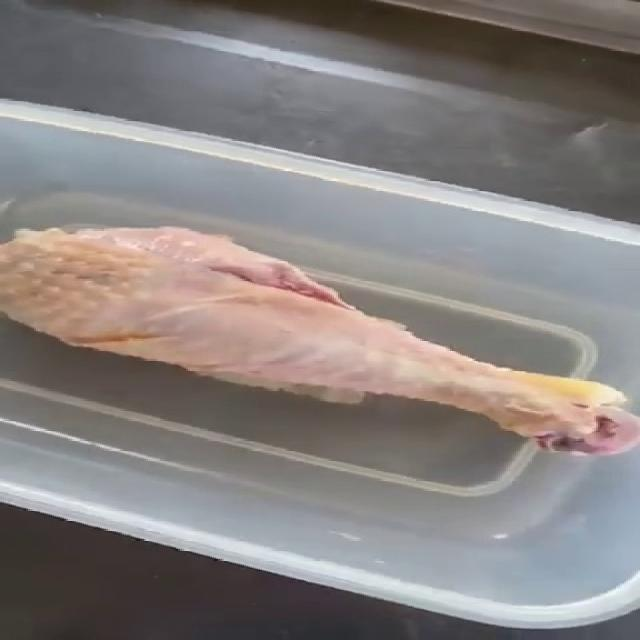chicken: (0, 222, 640, 458)
